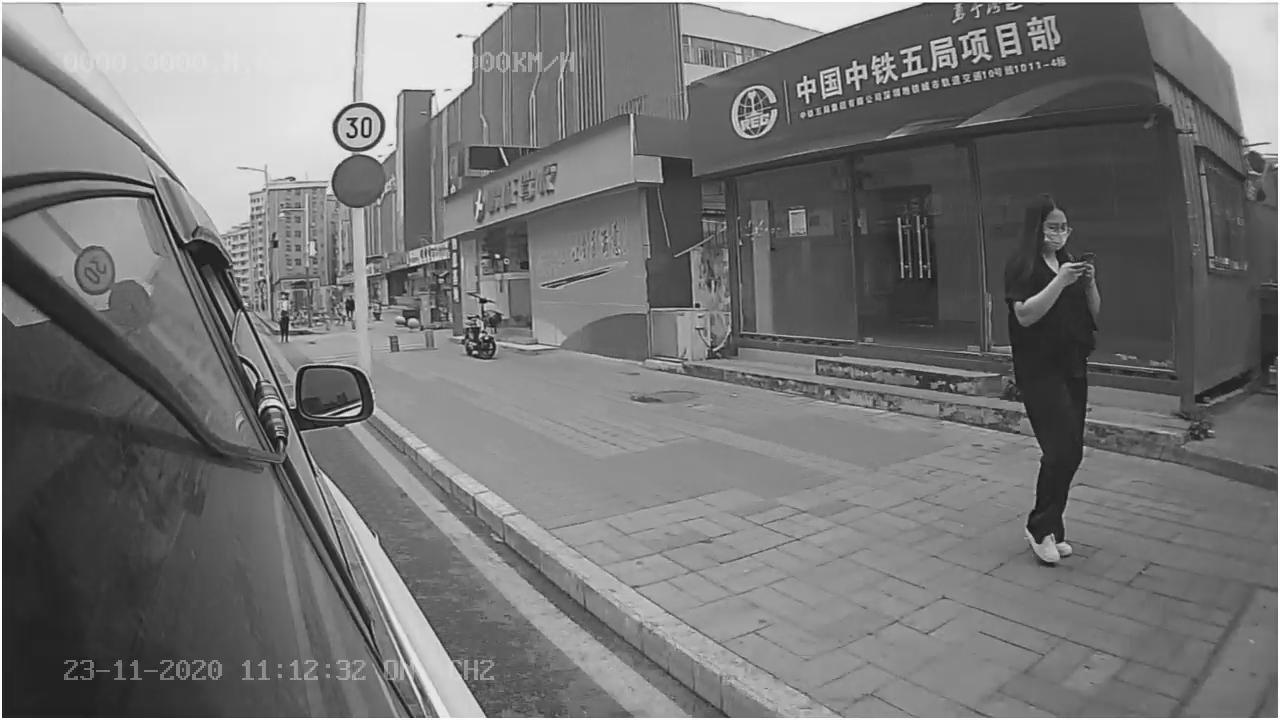person: (992, 195, 1113, 566)
